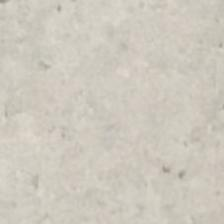Non_Crack: (16, 18, 192, 198)
